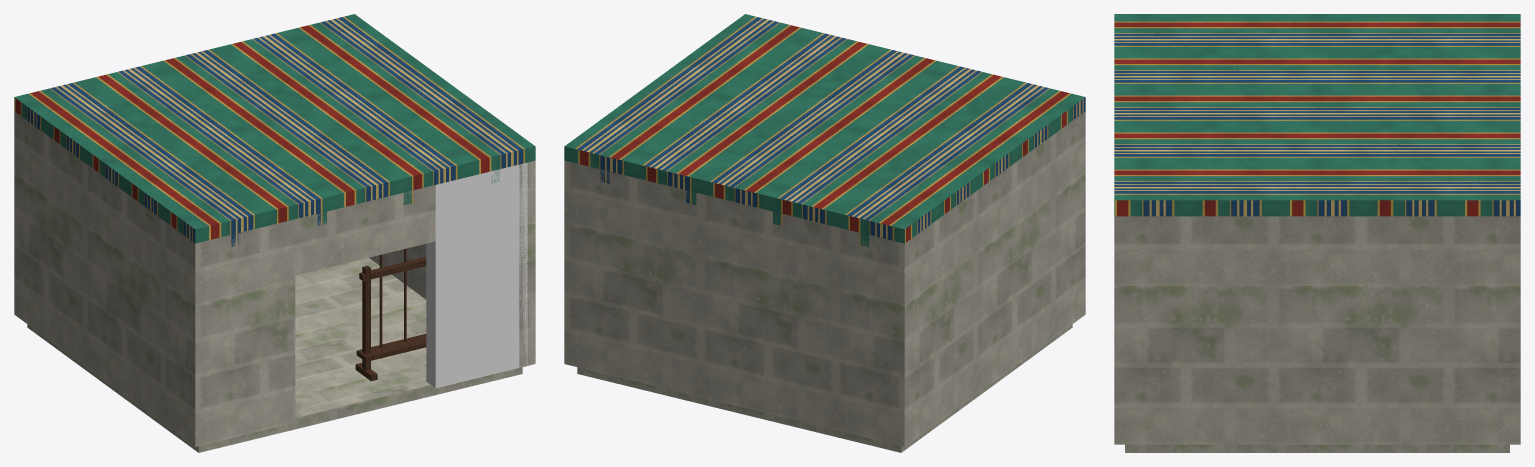
The model's file is qingshi_blacksmith.glb.
3 renders of one model, left to right at view 1: azimuth 30°, elevation 25°; view 2: azimuth 150°, elevation 25°; view 3: azimuth 270°, elevation 25°, orthographic. The views are drawn at different scales.
Visible parts, largest first — view 1: Walls, Ceiling, ShellFront-convcolonly.001, Floor, RackWood; view 2: Walls, Ceiling, Floor; view 3: Walls, Ceiling, Floor.
Part boxes in pixels (bbox=[...]): Walls: bbox=[14, 111, 535, 446]; Ceiling: bbox=[14, 14, 535, 246]; ShellFront-convcolonly.001: bbox=[426, 163, 527, 388]; Floor: bbox=[27, 258, 522, 452]; RackWood: bbox=[355, 248, 426, 381]; Walls: bbox=[564, 111, 1085, 446]; Ceiling: bbox=[564, 14, 1085, 247]; Floor: bbox=[577, 324, 1072, 452]; Walls: bbox=[1114, 216, 1520, 444]; Ceiling: bbox=[1114, 14, 1520, 216]; Floor: bbox=[1125, 444, 1509, 452].
Size of what is drawn, in the model's own units: 6.3 by 4.05 by 5.8.
10 materials, 8 textured.
